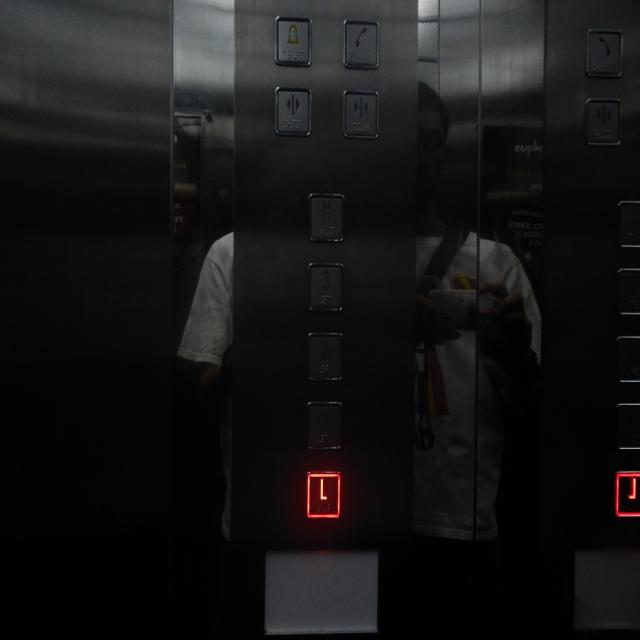1: (304, 399, 344, 452)
2: (306, 330, 346, 383)
3: (307, 261, 345, 313)
L: (305, 469, 341, 518)
M: (306, 192, 347, 244)
alarm: (274, 16, 312, 67)
call: (343, 19, 381, 70)
close: (342, 89, 380, 140)
open: (274, 84, 312, 137)
